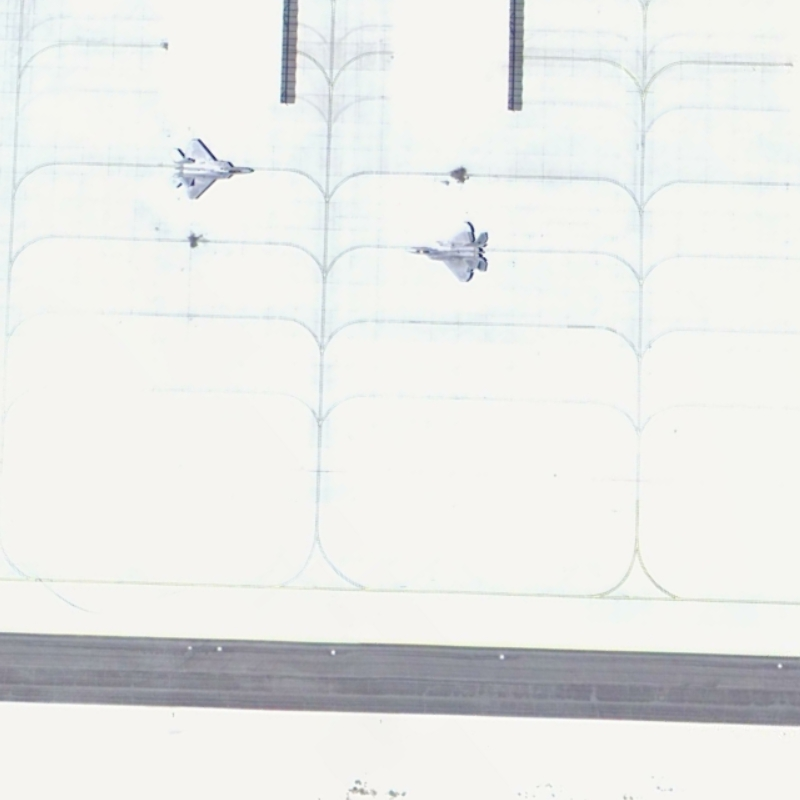A15: (398, 205, 498, 292), (167, 126, 254, 204)
